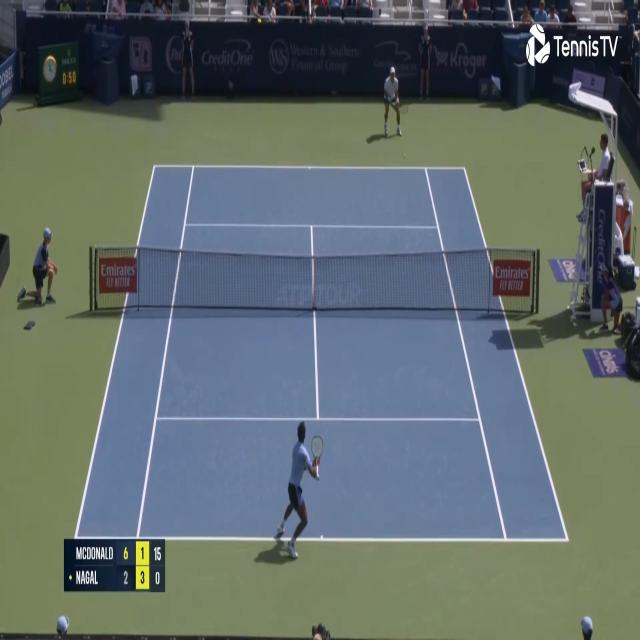tennis-player: (271, 418, 324, 562), (381, 64, 404, 139)
